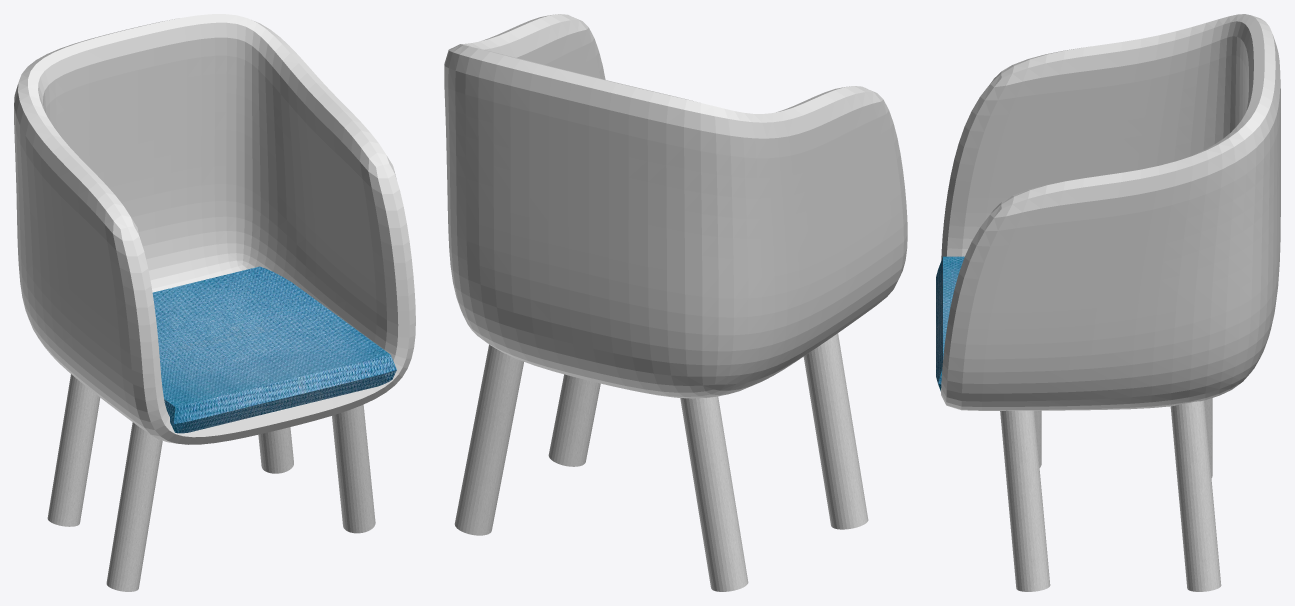
Rendered from silla-estancia.fbx.
3 views of the same model, side by side, from view 1: azimuth 30°, elevation 25°; view 2: azimuth 150°, elevation 25°; view 3: azimuth 270°, elevation 25° (orthographic). The views are drawn at different scales.
Parts seen in each view (by area): view 1: Plano; view 2: Plano; view 3: Plano.
Boxes of the visible parts, x1,y1,x2,y2 form: Plano: [14, 14, 415, 591]; Plano: [444, 14, 907, 591]; Plano: [936, 14, 1280, 591].
Bounding box in the file's own units: 200 × 302 × 202.
Materials: 3 (3 with a texture image).
